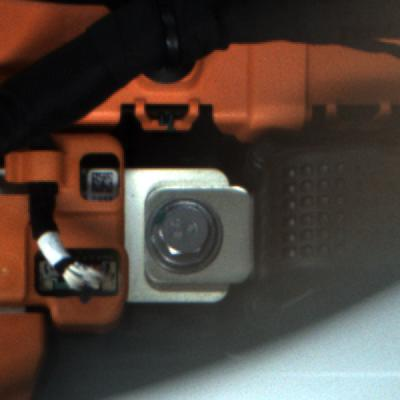nut_b: (153, 194, 228, 273)
